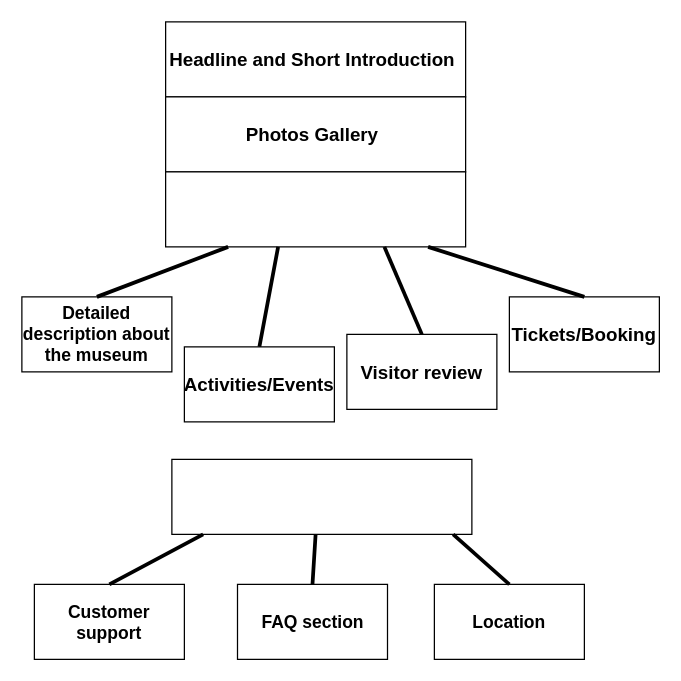
This 681x681 diagram has some shape labels left out. Here are the shapes that lost their labels. From the top down, the box of each, then its label:
(164, 171, 466, 247): Description
(171, 458, 472, 534): Contact information
